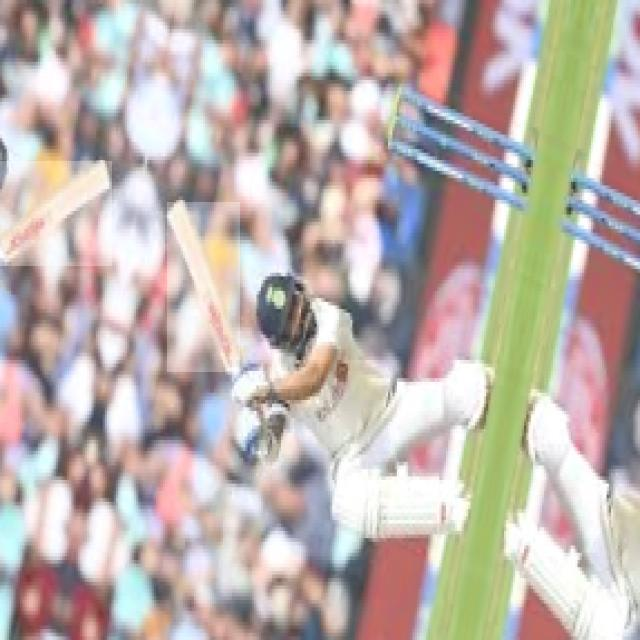bat: (167, 199, 239, 370)
toe: (165, 199, 189, 216)
